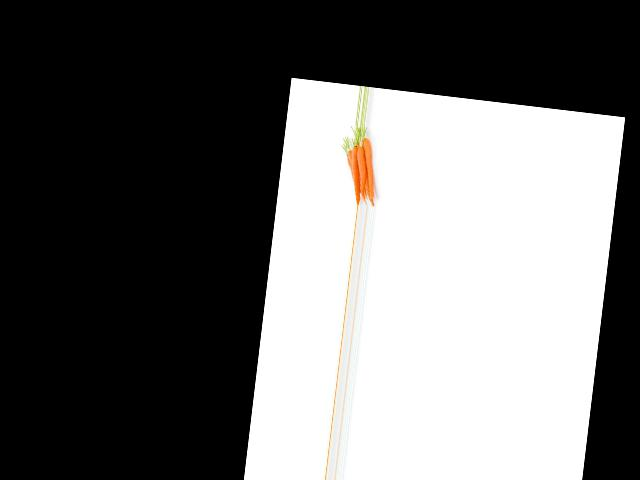carrot: (360, 136, 379, 205)
